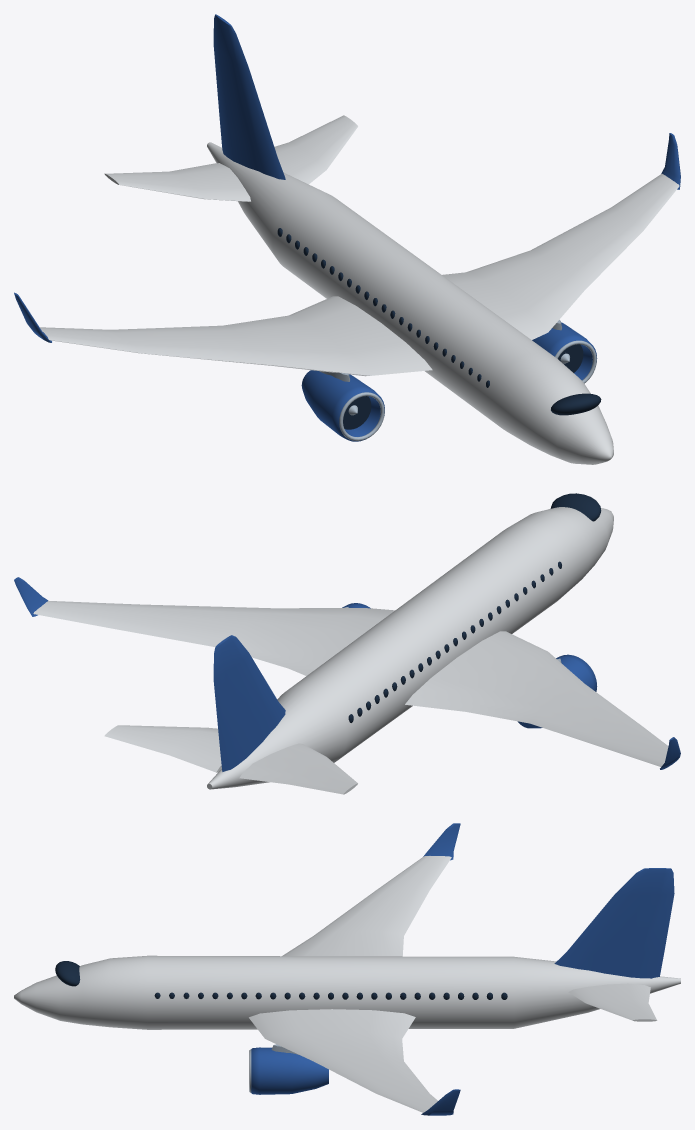
Rendered from town-airliner.glb.
The picture shows the model from 3 angles, top to bottom: view 1: azimuth 30°, elevation 25°; view 2: azimuth 150°, elevation 25°; view 3: azimuth 270°, elevation 25°; orthographic projection. The views are drawn at different scales.
Parts seen in each view (by area): view 1: fuselage, swept_wing_mx, swept_wing, tail_fin, stabilizer_mx, stabilizer, nacelle_mx, nacelle, windshield; view 2: fuselage, swept_wing_mx, swept_wing, tail_fin, stabilizer_mx, stabilizer, windshield, nacelle_mx, winglet; view 3: fuselage, swept_wing, tail_fin, swept_wing_mx, nacelle, stabilizer, winglet_mx, winglet, windshield.
Boxes of the visible parts, left/top/right/bottom form: fuselage: left=207, top=142, right=613, bottom=464; swept_wing_mx: left=40, top=296, right=432, bottom=376; swept_wing: left=442, top=174, right=679, bottom=339; tail_fin: left=213, top=14, right=285, bottom=179; stabilizer_mx: left=104, top=163, right=250, bottom=201; stabilizer: left=274, top=115, right=357, bottom=184; nacelle_mx: left=301, top=370, right=384, bottom=441; nacelle: left=532, top=322, right=597, bottom=380; windshield: left=551, top=393, right=601, bottom=415; fuselage: left=207, top=507, right=613, bottom=789; swept_wing_mx: left=405, top=631, right=668, bottom=766; swept_wing: left=33, top=600, right=394, bottom=675; tail_fin: left=213, top=635, right=285, bottom=771; stabilizer_mx: left=239, top=743, right=357, bottom=794; stabilizer: left=104, top=725, right=221, bottom=772; windshield: left=550, top=493, right=601, bottom=521; nacelle_mx: left=517, top=654, right=597, bottom=728; winglet: left=14, top=577, right=47, bottom=616; fuselage: left=14, top=955, right=680, bottom=1029; swept_wing: left=249, top=1009, right=437, bottom=1112; tail_fin: left=554, top=868, right=674, bottom=978; swept_wing_mx: left=282, top=856, right=451, bottom=956; nacelle: left=251, top=1047, right=328, bottom=1094; stabilizer: left=568, top=983, right=657, bottom=1021; winglet_mx: left=423, top=823, right=460, bottom=860; winglet: left=421, top=1089, right=460, bottom=1115; windshield: left=55, top=961, right=80, bottom=986.
Size of the model in its own units: 34.11 by 10.78 by 36.
